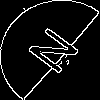N: (25, 25, 90, 83)
